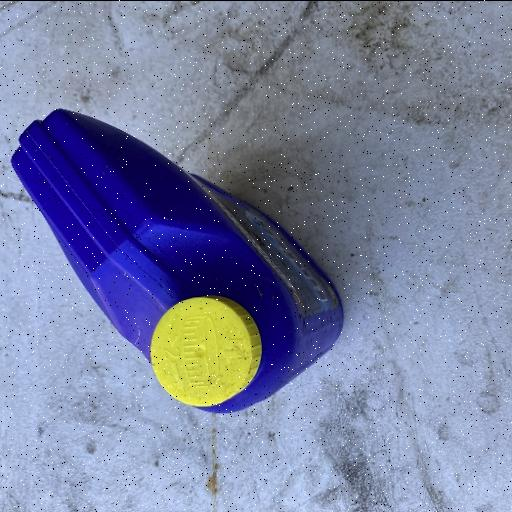Plastic: (9, 106, 345, 416)
